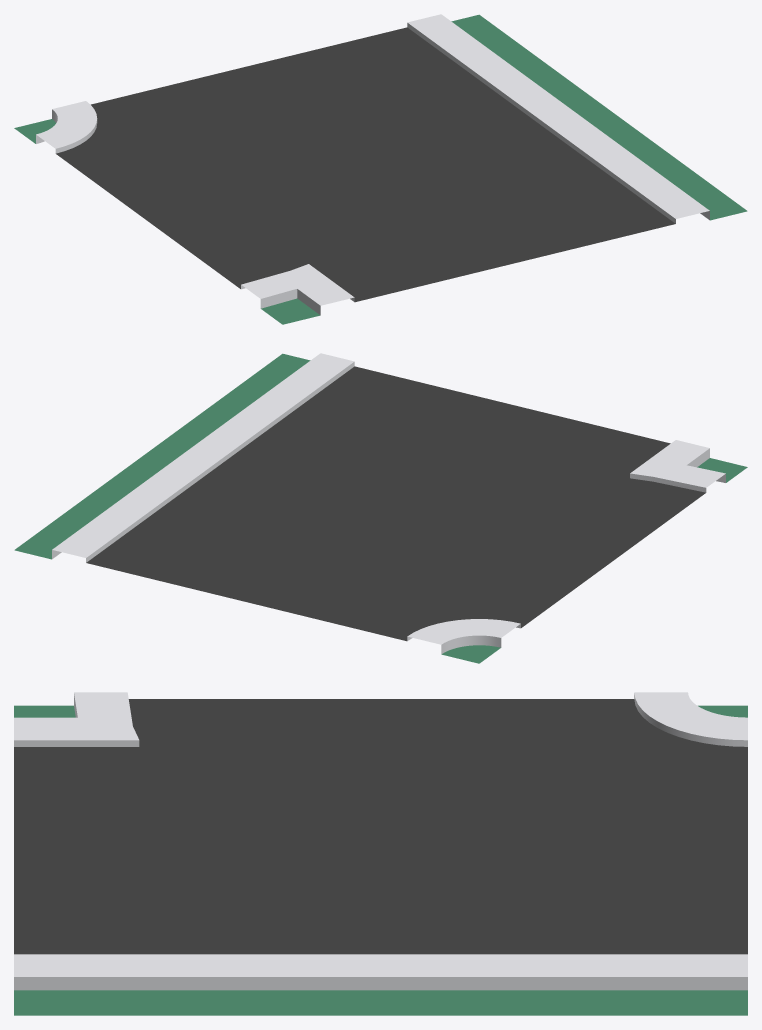
File: roadSplitSmall.obj
The picture shows the model from 3 angles, top to bottom: view 1: azimuth 30°, elevation 25°; view 2: azimuth 150°, elevation 25°; view 3: azimuth 270°, elevation 25°; orthographic projection. The views are drawn at different scales.
Parts seen in each view (by area): view 1: roadSplitSmall; view 2: roadSplitSmall; view 3: roadSplitSmall.
Boxes of the visible parts, x1,y1,x2,y2 form: roadSplitSmall: (14, 14, 747, 324); roadSplitSmall: (14, 353, 747, 663); roadSplitSmall: (14, 692, 747, 1015).
Size of the model in its own units: 1 by 0.02 by 1.
